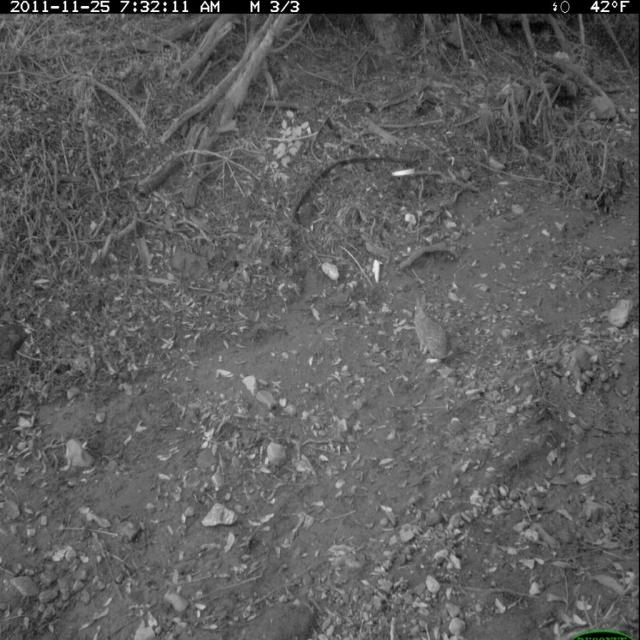rabbit: (413, 289, 456, 368)
